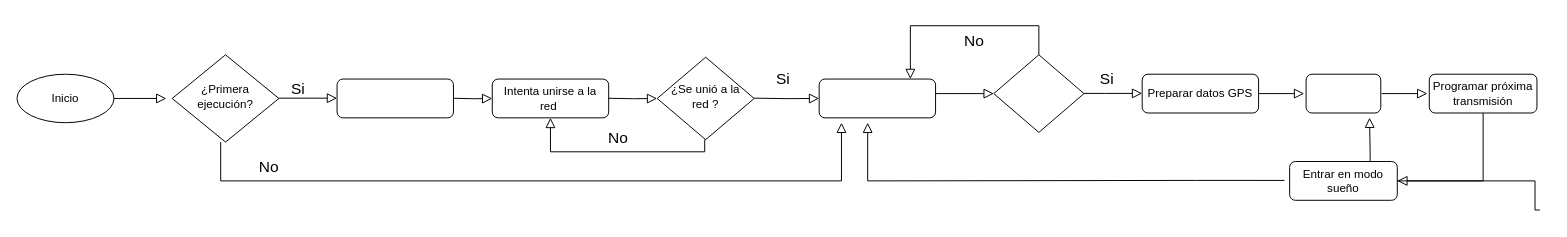
Some shapes in this 1567 by 237 pixel diagram are drawn without their labels. The shapes that lost their labels are listed below. From the top down, each one's centre as x and y in pixels, then its label:
At point (394, 98): "Inicialización LoRaWAN".
At point (877, 98): "Esperar siguiente ciclo".
At point (1038, 93): "¿GPS ajustado?".
At point (1343, 93): "Enviar Datos".
